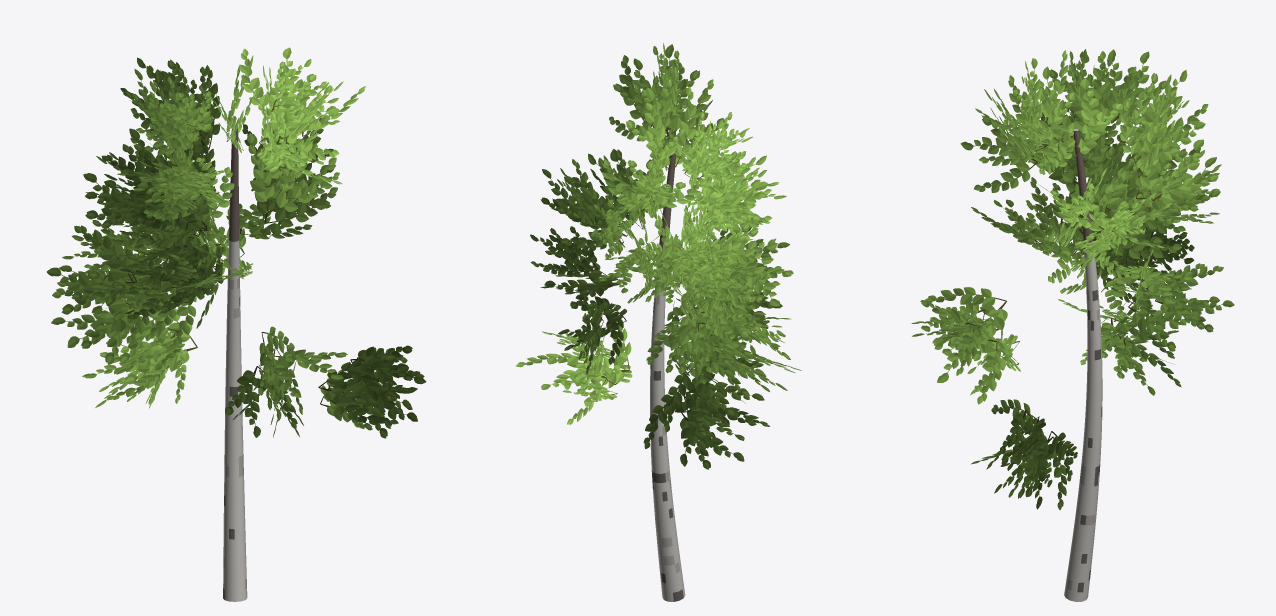
Rendered from birch_2_mid.glb.
3 views of the same model, side by side, from view 1: azimuth 30°, elevation 25°; view 2: azimuth 150°, elevation 25°; view 3: azimuth 270°, elevation 25° (orthographic). The views are drawn at different scales.
Visible parts, largest first — view 1: birch_2_mid; view 2: birch_2_mid; view 3: birch_2_mid.
Part boxes in pixels (box(x1,y1,x2,y2)): birch_2_mid: box(46, 47, 426, 601); birch_2_mid: box(516, 43, 801, 601); birch_2_mid: box(911, 49, 1234, 601).
Bounding box in the file's own units: 7.35 × 10.68 × 6.49.
Materials: 5 (1 with a texture image).
